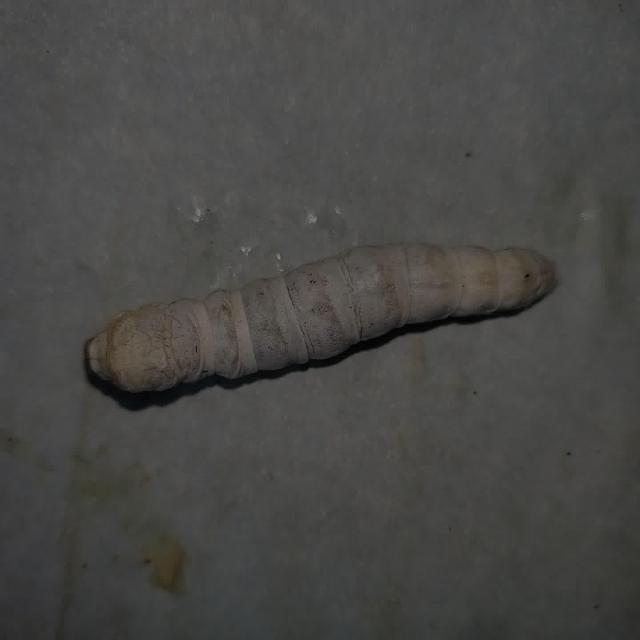Grasserie: (73, 227, 566, 412)
